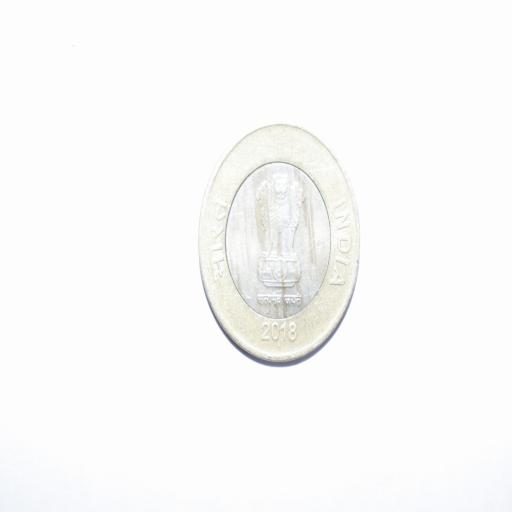rupee10: (198, 124, 359, 363)
